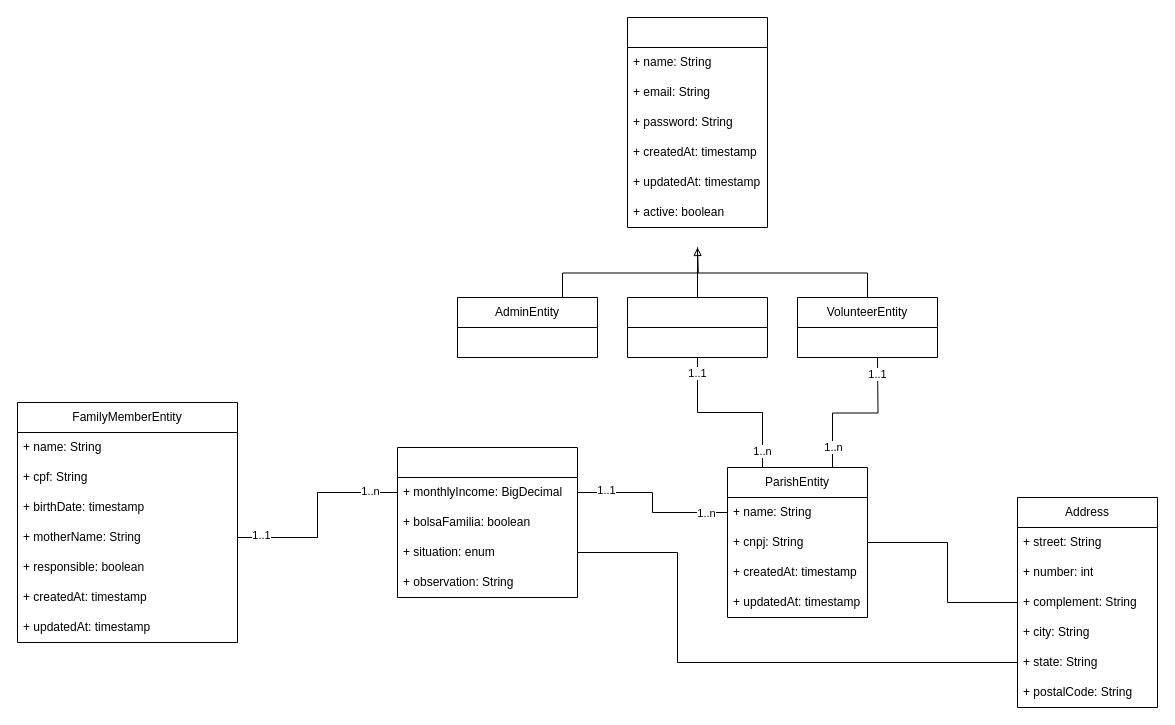
Image size: 1175x725. Some labels were removed from this diagram. Each missing label, with the box of its shape:
CoordinatorEntity: (626, 296, 768, 358)
FamilyEntity: (396, 446, 578, 598)
UserEntity: (626, 16, 768, 228)
